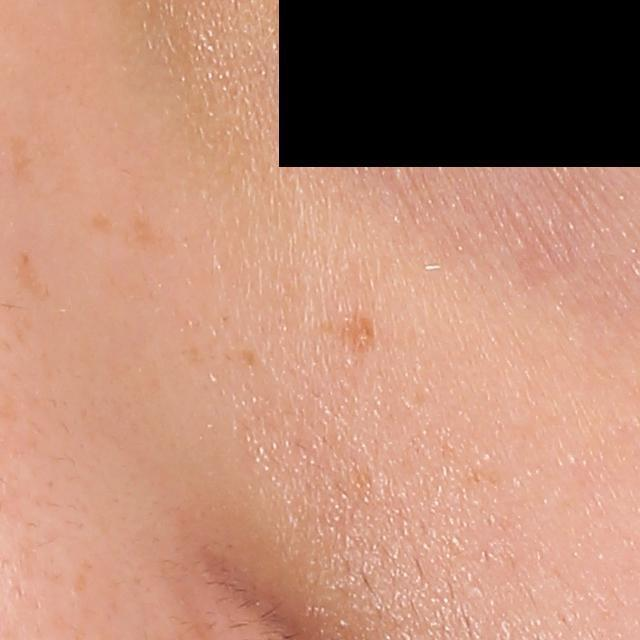melasma: (317, 309, 382, 361), (122, 207, 177, 258), (16, 252, 49, 301), (8, 133, 38, 180), (89, 207, 119, 237), (233, 348, 262, 372)
